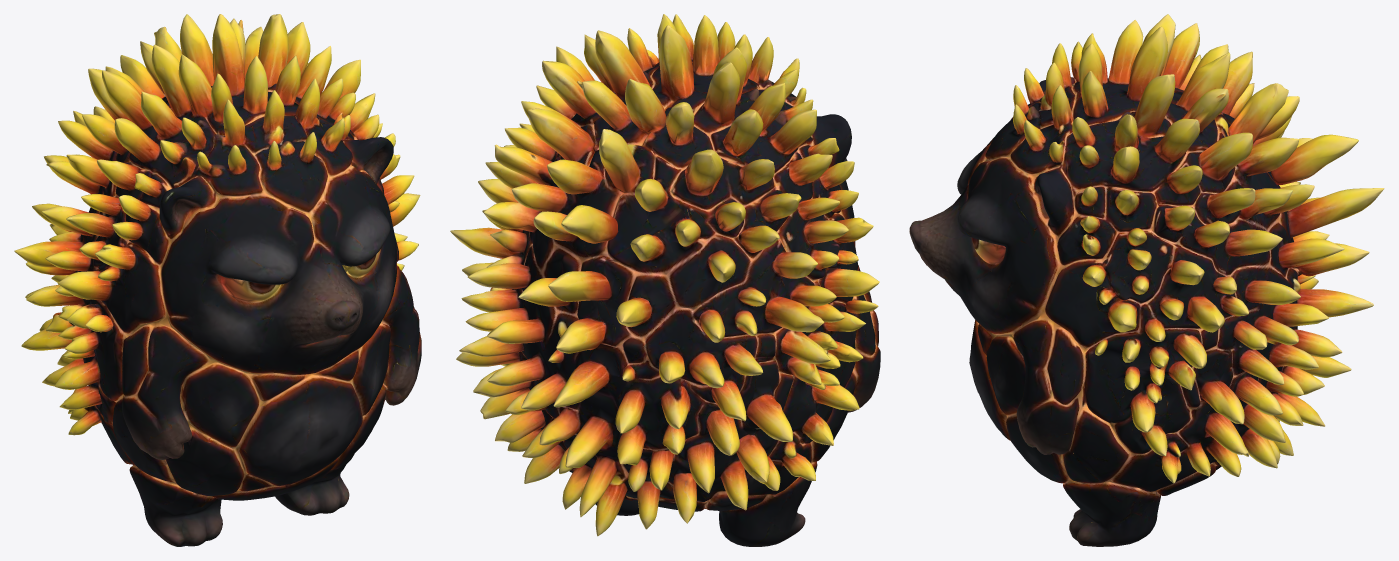
The model's file is herisson.glb.
The picture shows the model from 3 angles, left to right: view 1: azimuth 30°, elevation 25°; view 2: azimuth 150°, elevation 25°; view 3: azimuth 270°, elevation 25°; orthographic projection. The views are drawn at different scales.
Bounding box in the file's own units: 1.49 × 1.9 × 1.71.
1 material, 1 textured.
